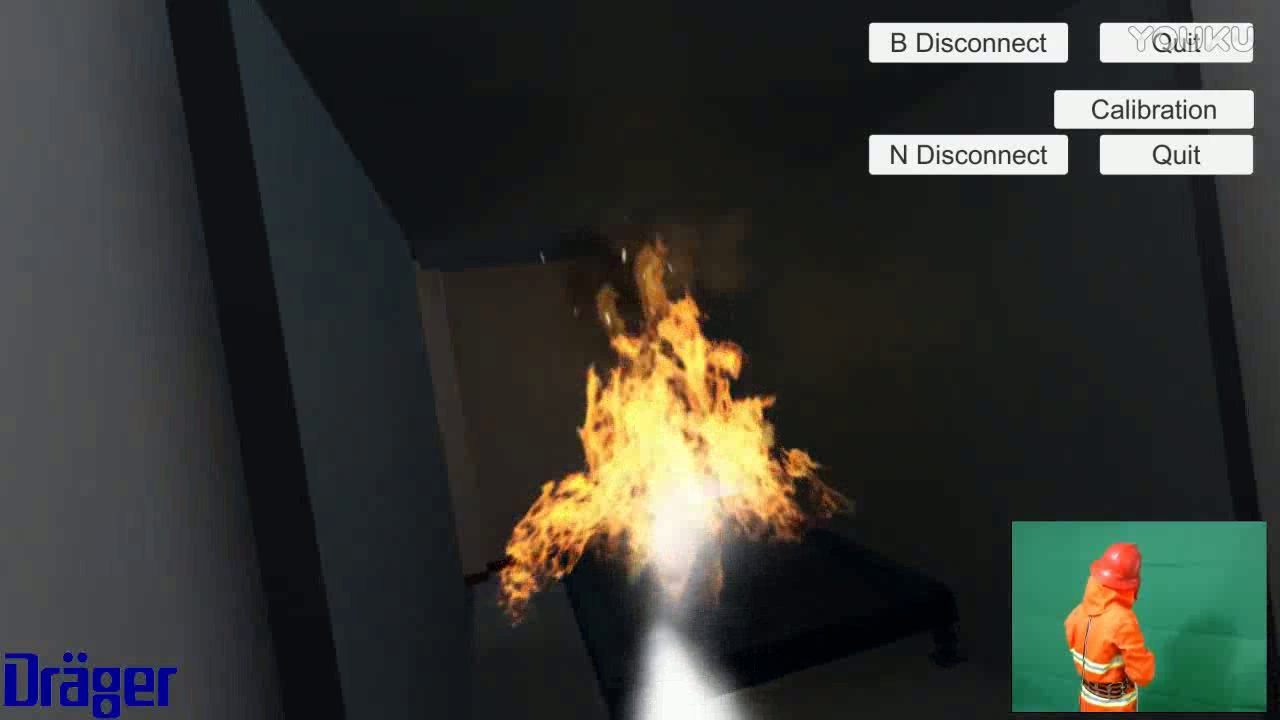fire: (487, 242, 847, 620)
